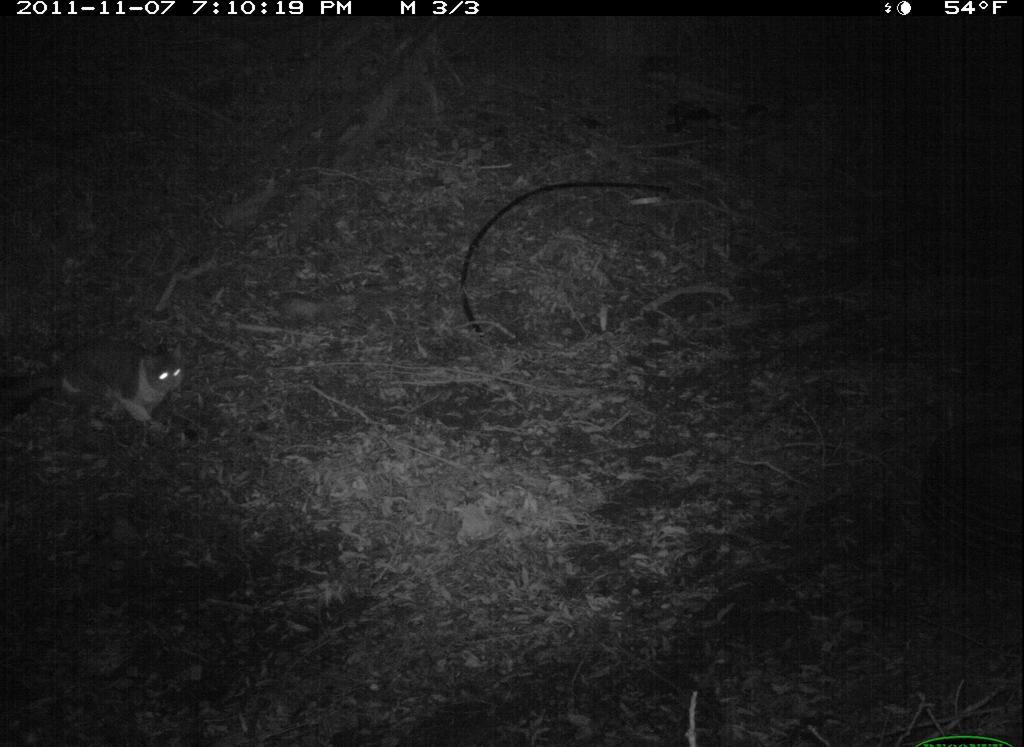cat: (9, 329, 193, 437)
